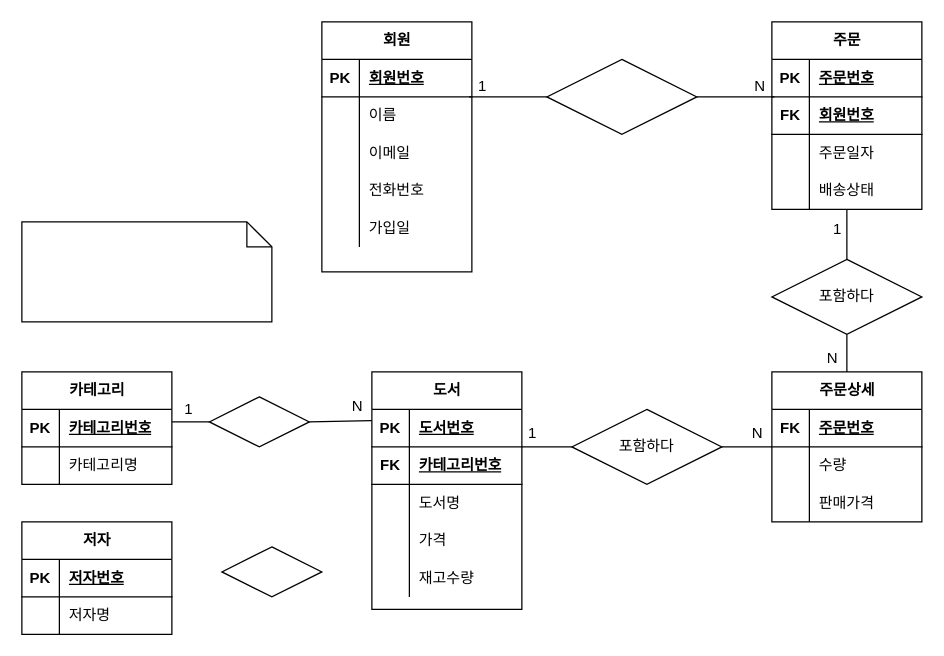
The diagram is 944 pixels wide and 656 high, and some of its shapes have lost their labels. Each missing label, with the centre of its shape:
분류한다: (258,421)
저술한다: (271,571)
주문하다: (621,96)
한 명이상의 저자가 쓸 수 있다. 한 저자가 여러 책을 쓸 수도 있다 N:M의 관계도는 표현할 수 없기 때문에 1:M의 관계로 만들어야 한다.: (146,271)
